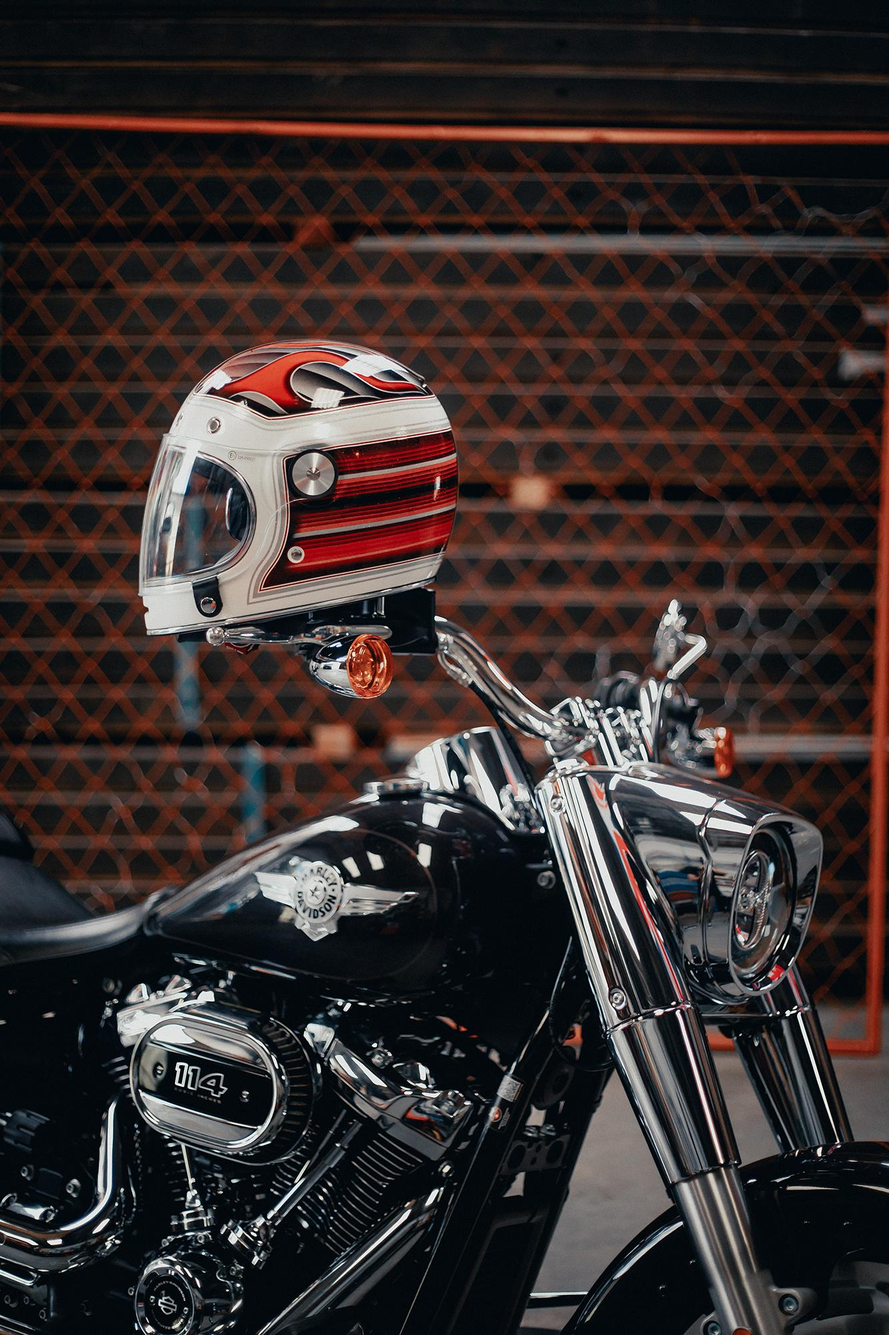helmet: (137, 336, 461, 638)
